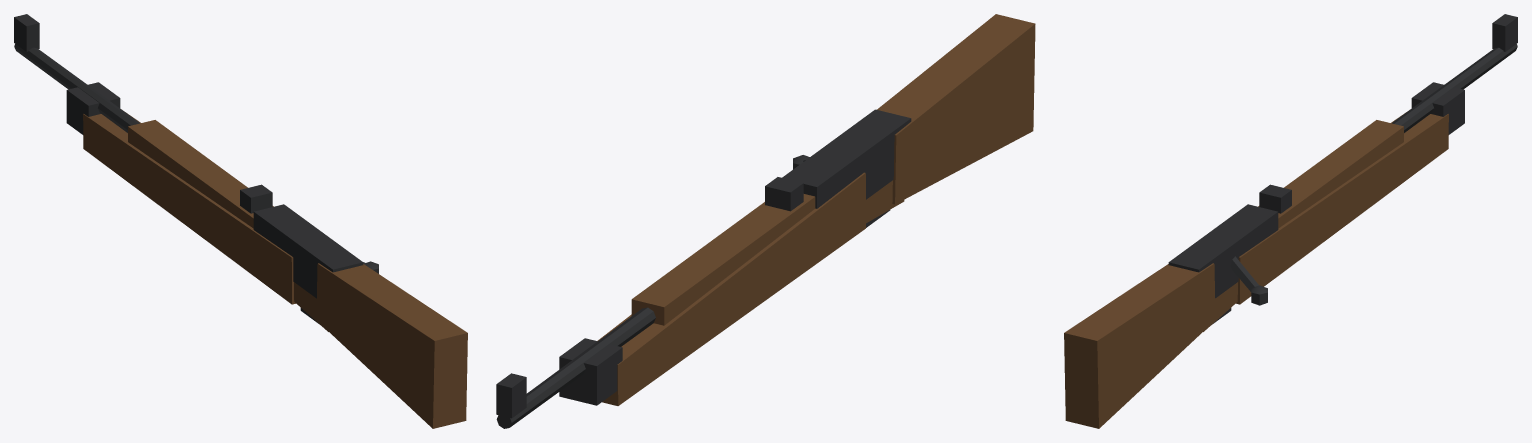
Rendered from kar98k.glb.
3 renders of one model, left to right at view 1: azimuth 30°, elevation 25°; view 2: azimuth 150°, elevation 25°; view 3: azimuth 330°, elevation 25°, orthographic. The views are drawn at different scales.
Parts seen in each view (by area): view 1: kar98k; view 2: kar98k; view 3: kar98k.
Boxes of the visible parts, <box> form: kar98k: <box>14,14,467,428</box>; kar98k: <box>496,14,1035,428</box>; kar98k: <box>1064,14,1517,428</box>.
Size of the model in its own units: 0.1027 by 0.126 by 1.03.
